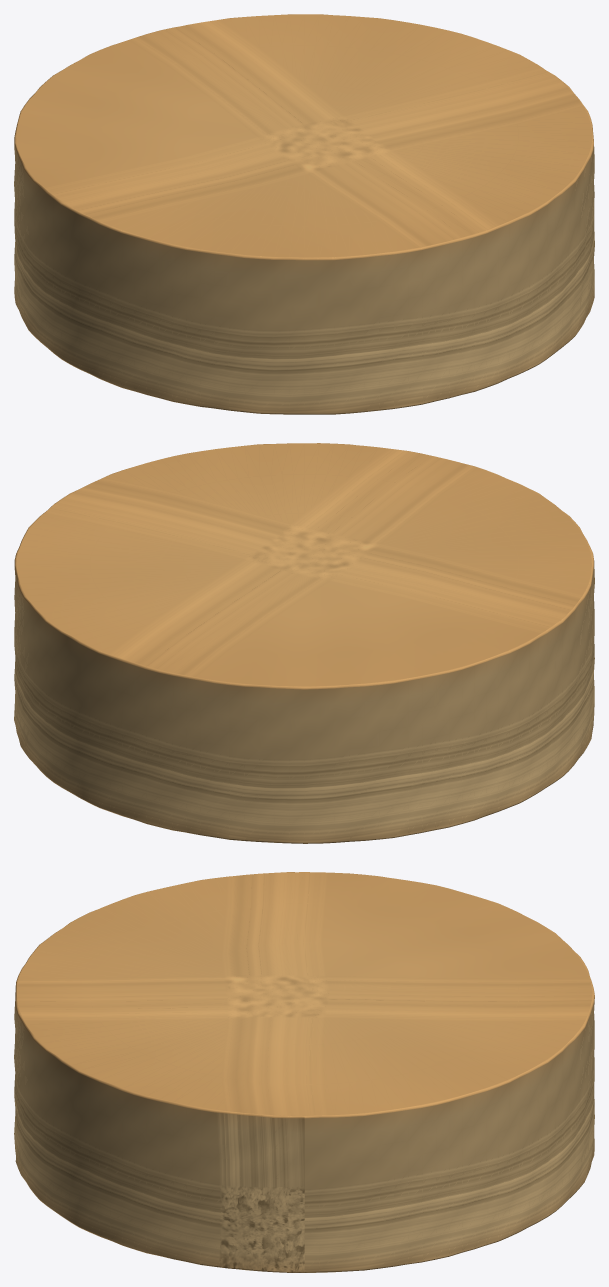
Rendered from sponge.glb.
The picture shows the model from 3 angles, top to bottom: view 1: azimuth 30°, elevation 25°; view 2: azimuth 150°, elevation 25°; view 3: azimuth 270°, elevation 25°; orthographic projection.
Size of the model in its own units: 2.65 by 0.7943 by 2.65.
2 materials, 2 textured.
